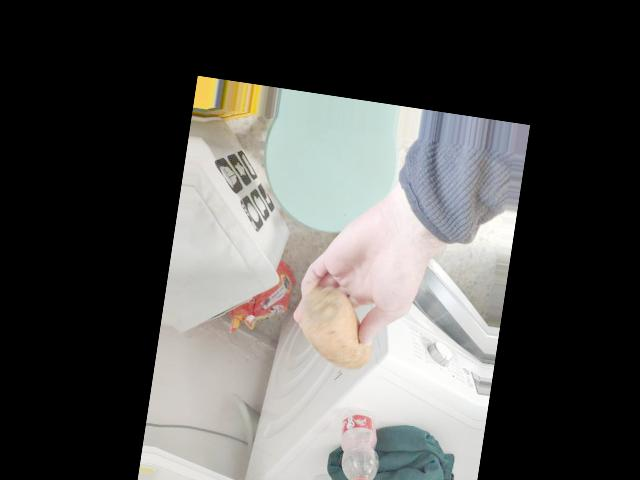sweet_potato: (300, 275, 388, 373)
